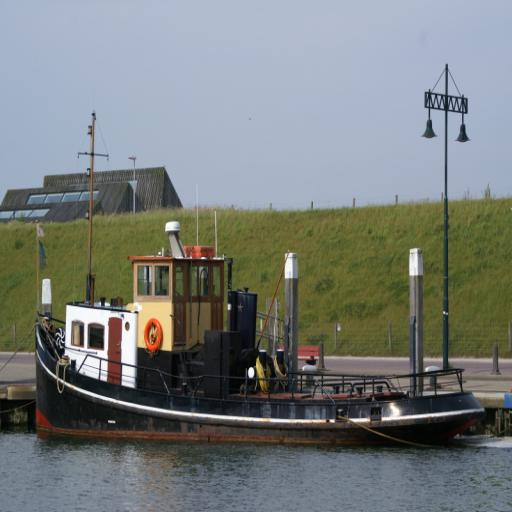tugboat: (34, 216, 491, 458)
